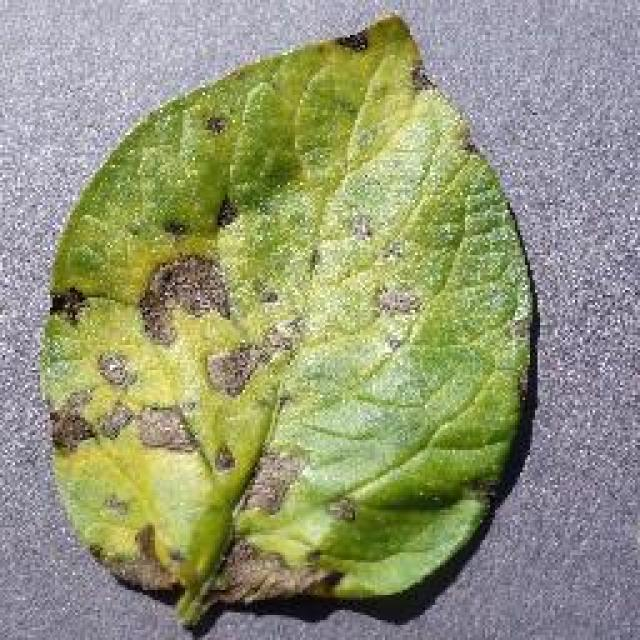early_blight: (35, 10, 540, 630)
